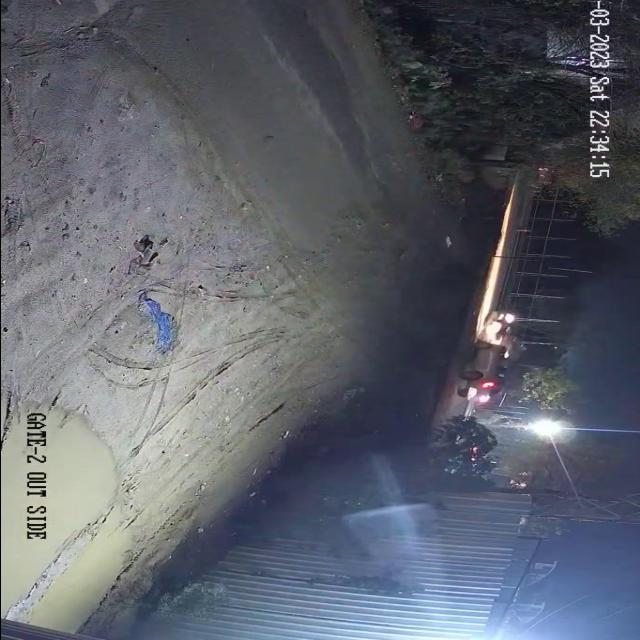accident: (449, 315, 531, 409)
